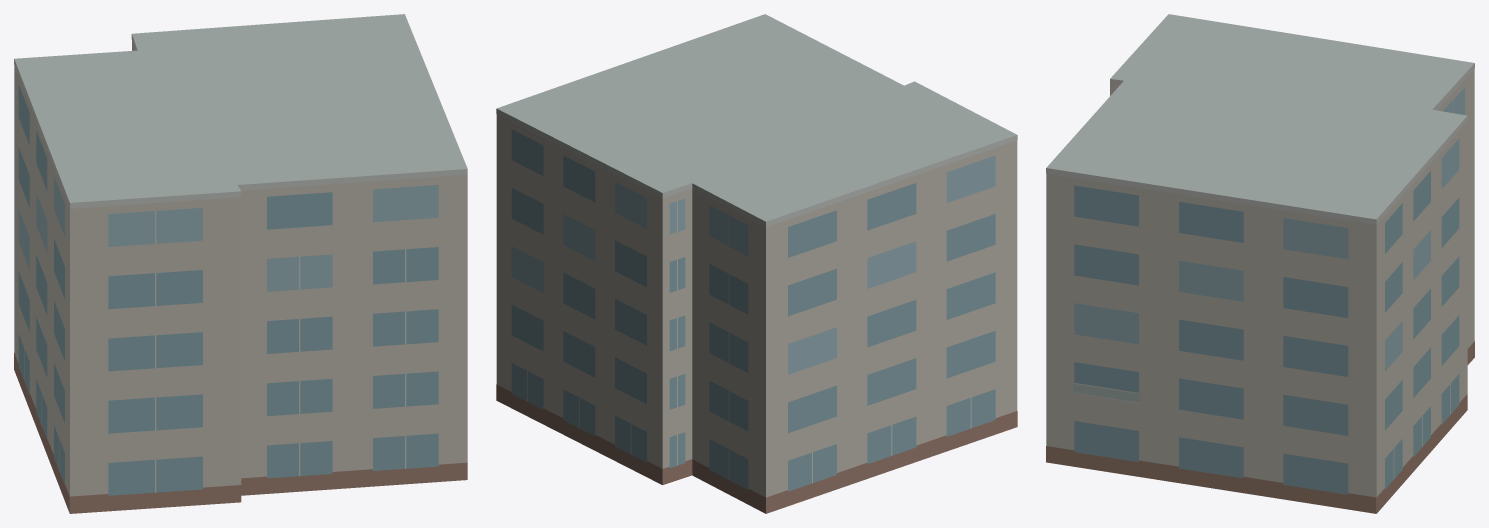
The model's file is survey-upis-32880064.glb.
3 renders of one model, left to right at view 1: azimuth 30°, elevation 25°; view 2: azimuth 150°, elevation 25°; view 3: azimuth 270°, elevation 25°, orthographic. The views are drawn at different scales.
Visible parts, largest first — view 1: survey-upis-32880064.tmp; view 2: survey-upis-32880064.tmp; view 3: survey-upis-32880064.tmp.
Boxes of the visible parts, box(x1,y1,x2,y2) form: survey-upis-32880064.tmp: box(14, 14, 467, 513); survey-upis-32880064.tmp: box(496, 14, 1017, 513); survey-upis-32880064.tmp: box(1046, 14, 1474, 513).
Bounding box in the file's own units: 19.47 × 13 × 17.17.
